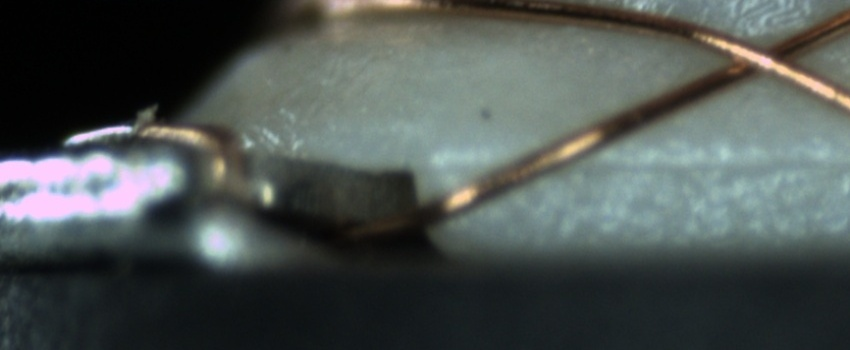CL: (700, 22, 830, 90)
DL: (474, 132, 849, 193)
TE: (134, 116, 250, 205)
